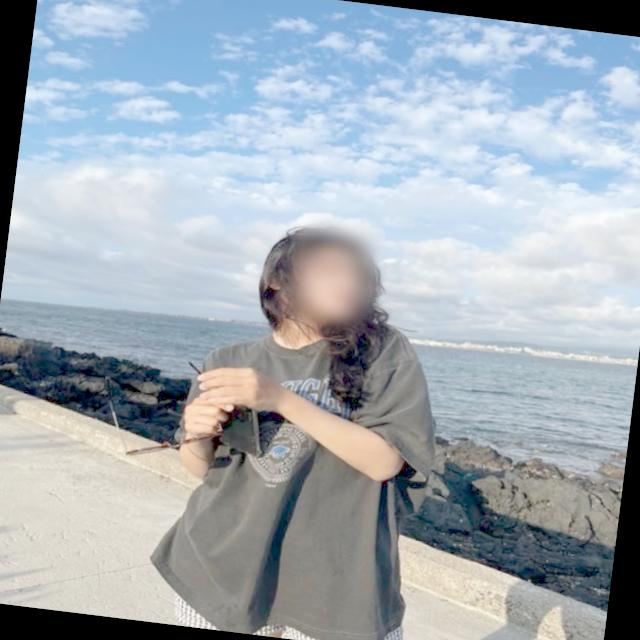shortpants: (146, 547, 418, 640)
shortsleeve: (137, 298, 448, 640)
